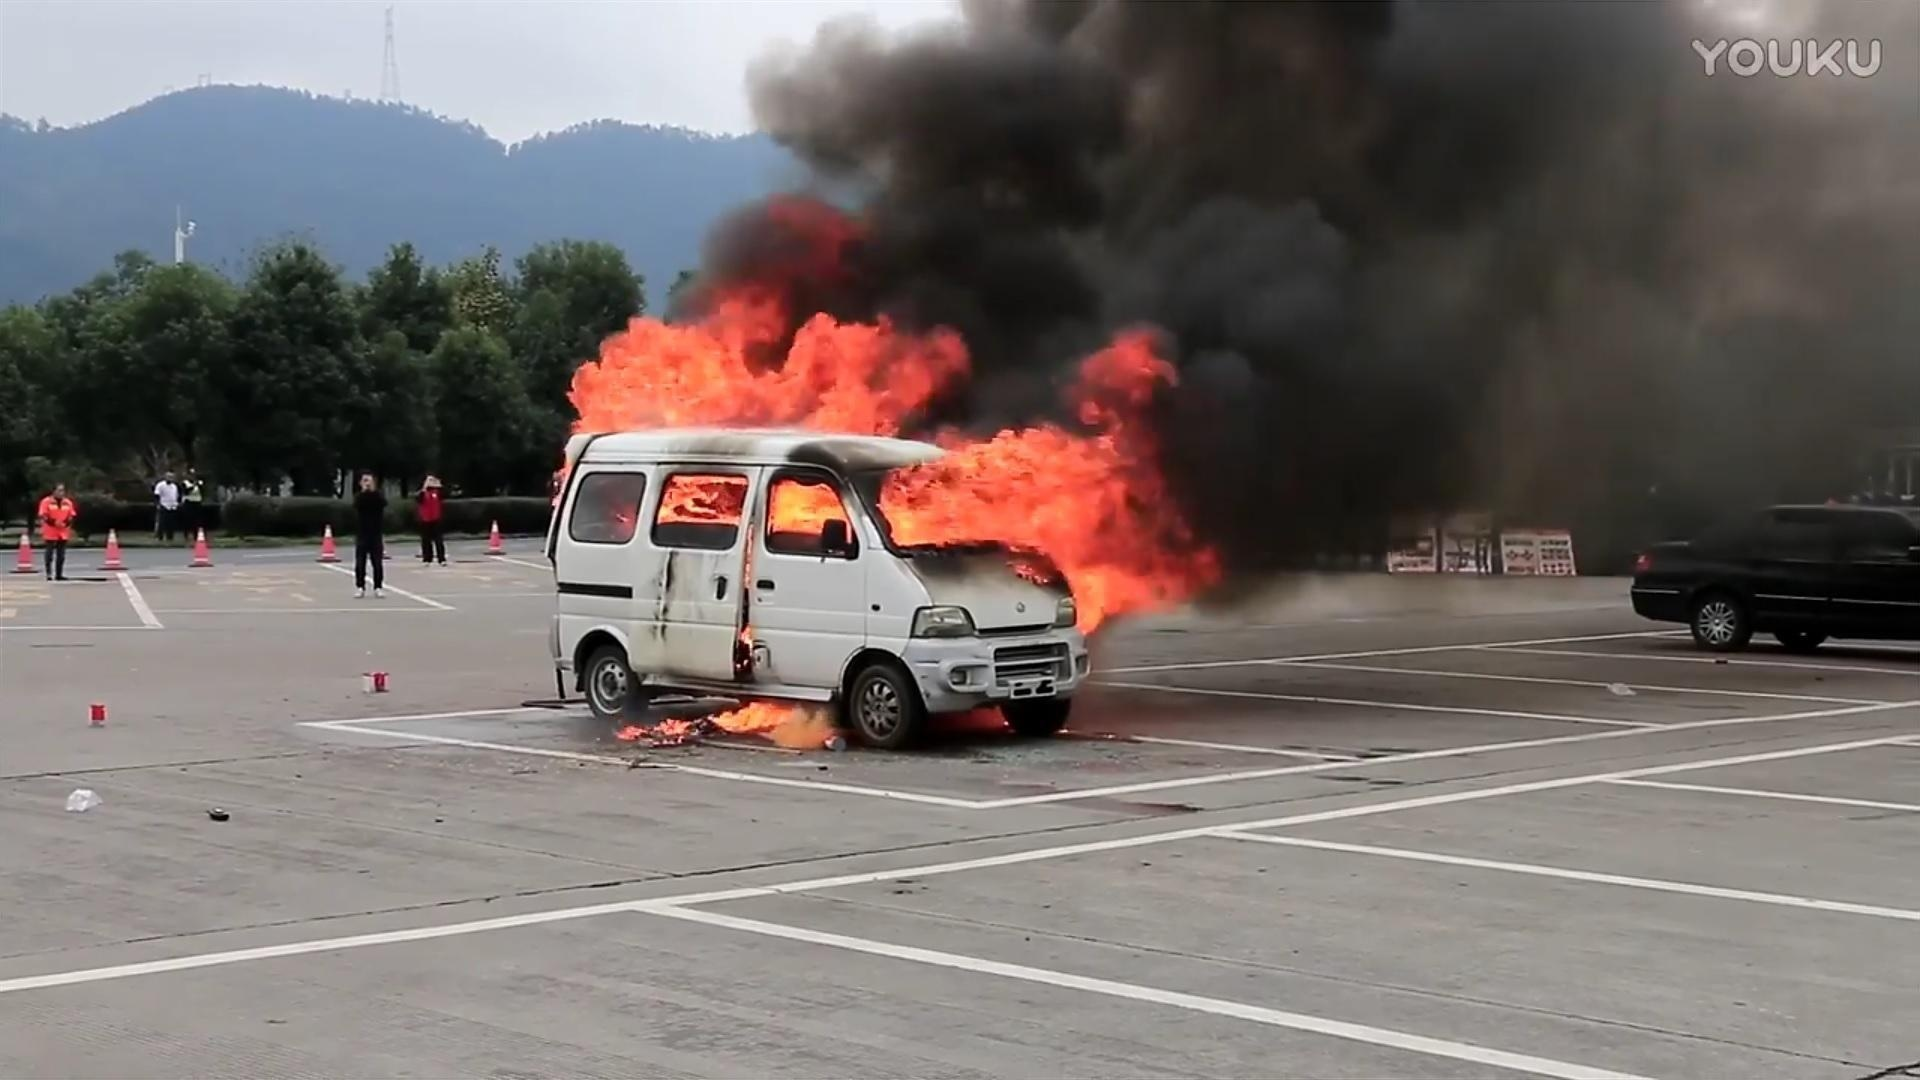fire: (549, 286, 1233, 749)
